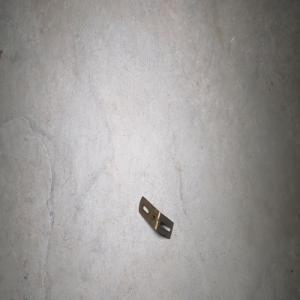MetalPart: (138, 195, 174, 239)
